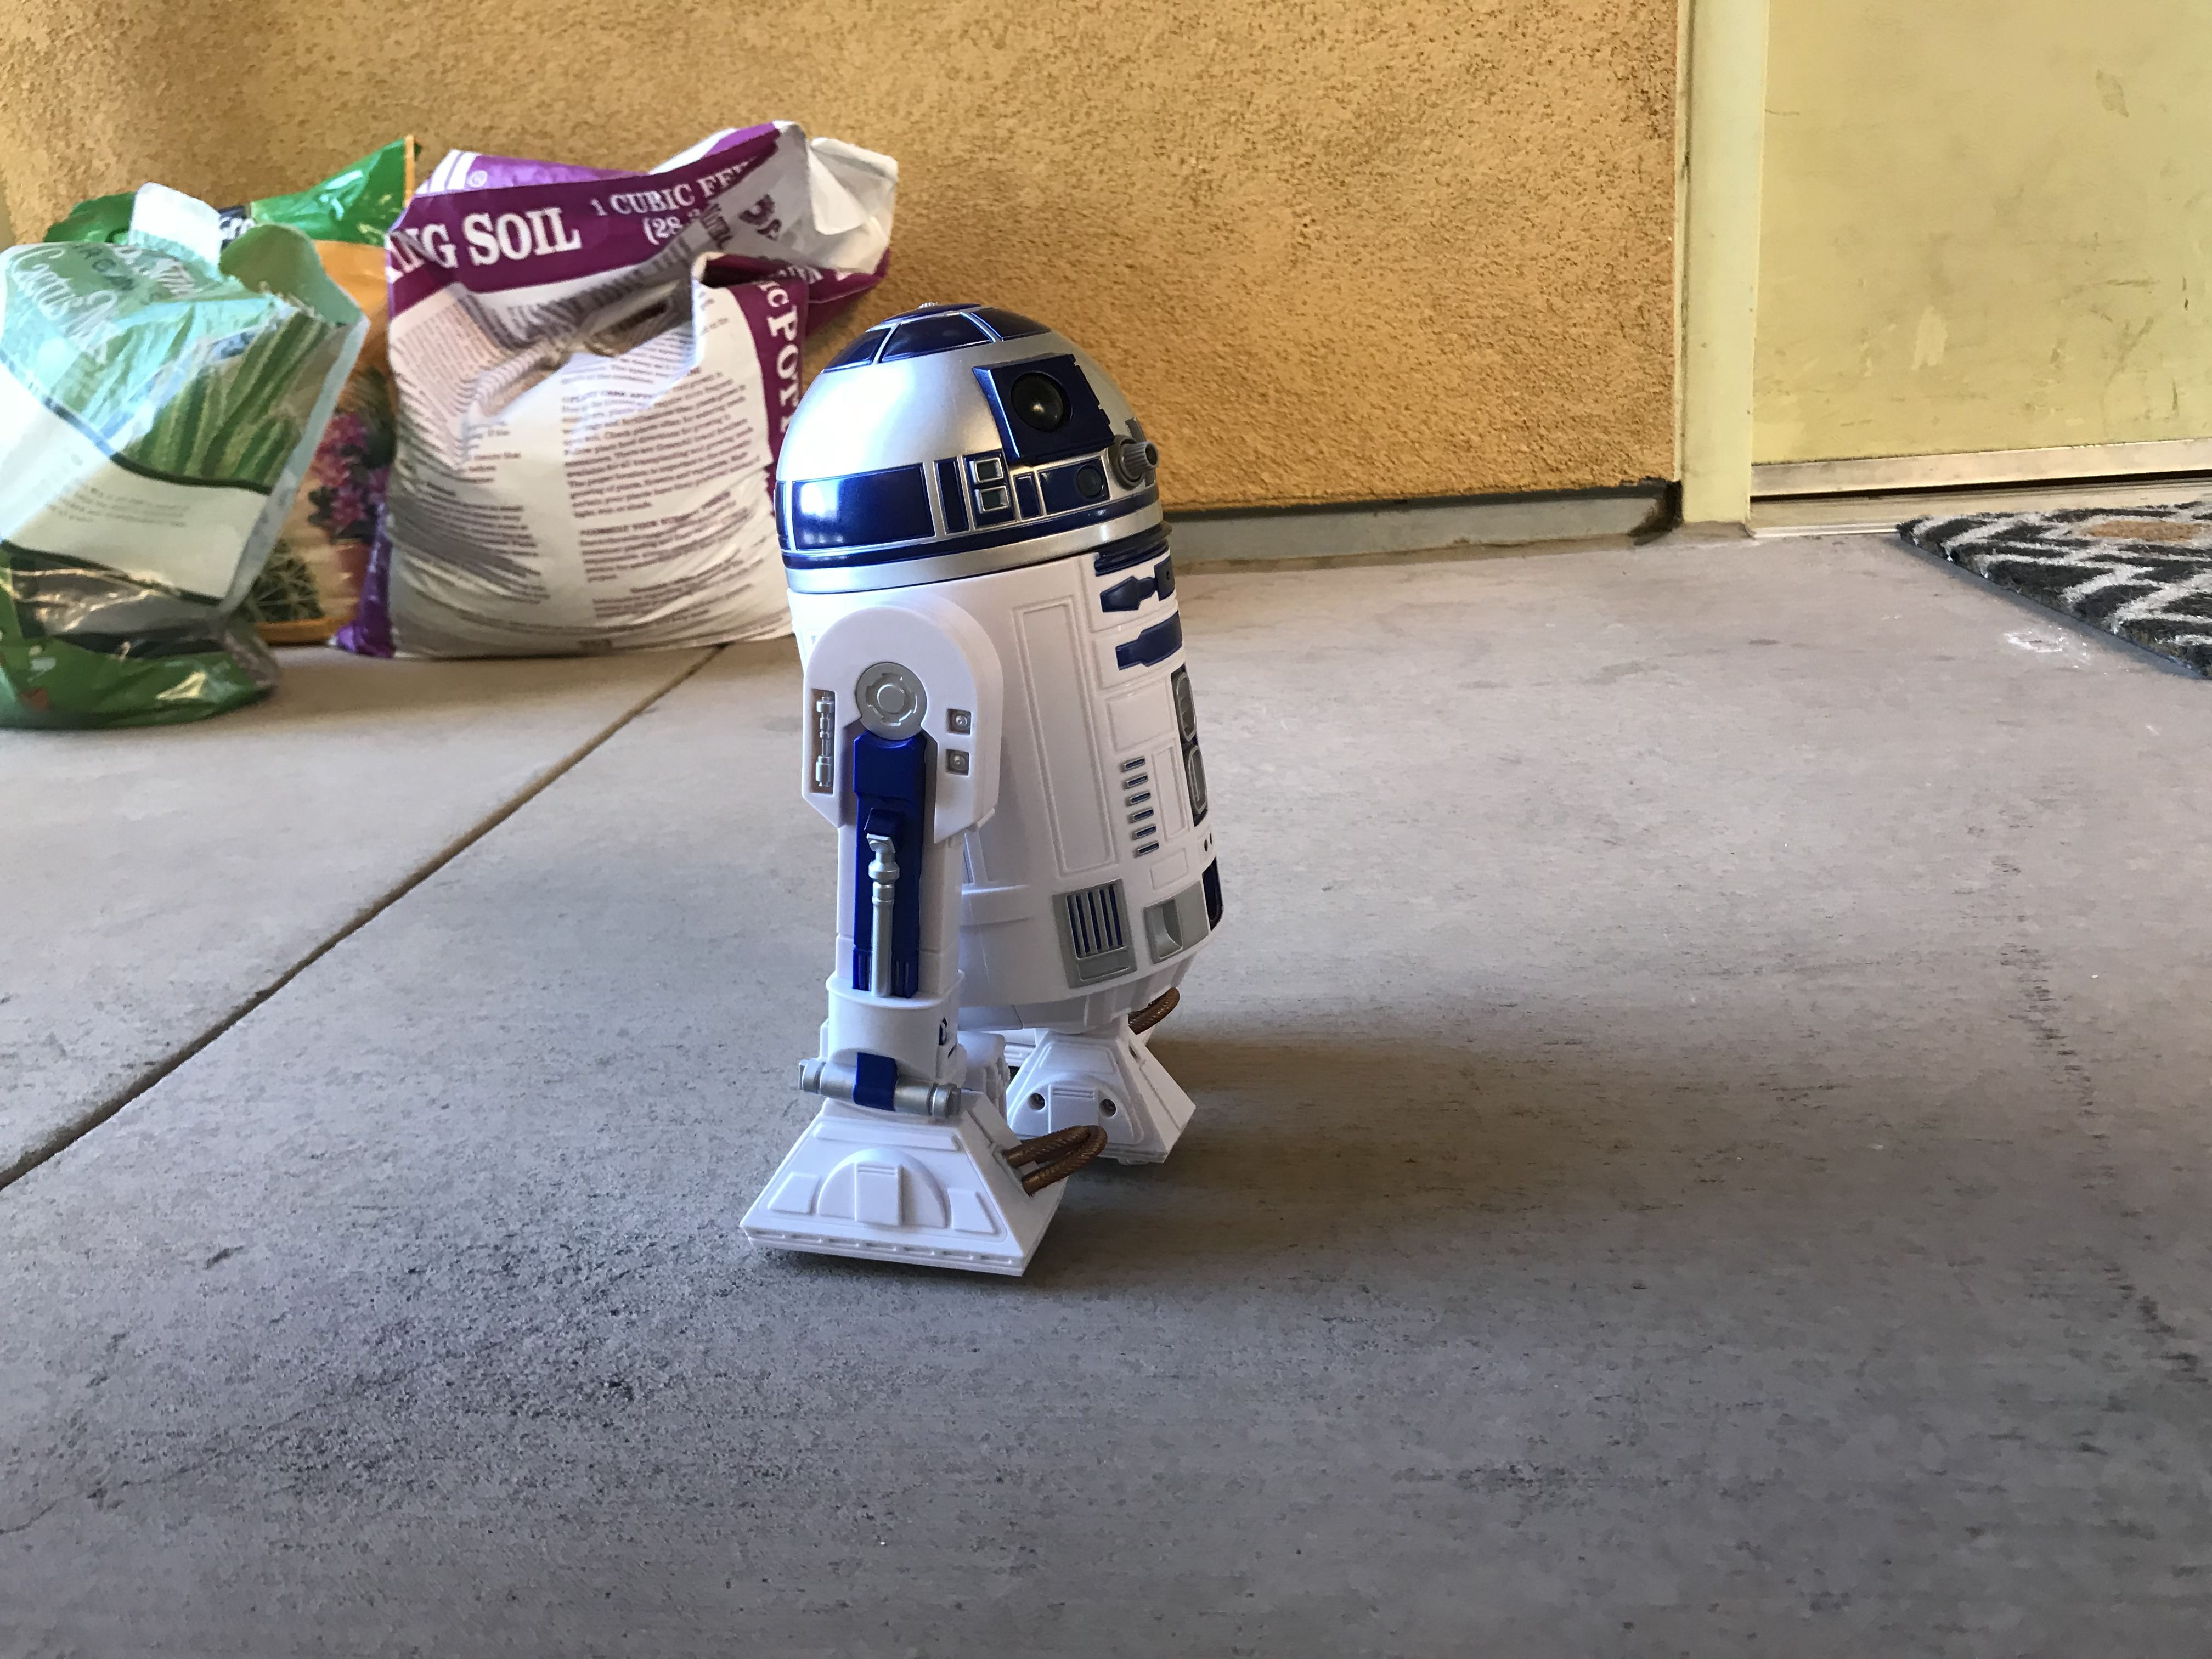r2d2: (742, 301, 1223, 1281)
